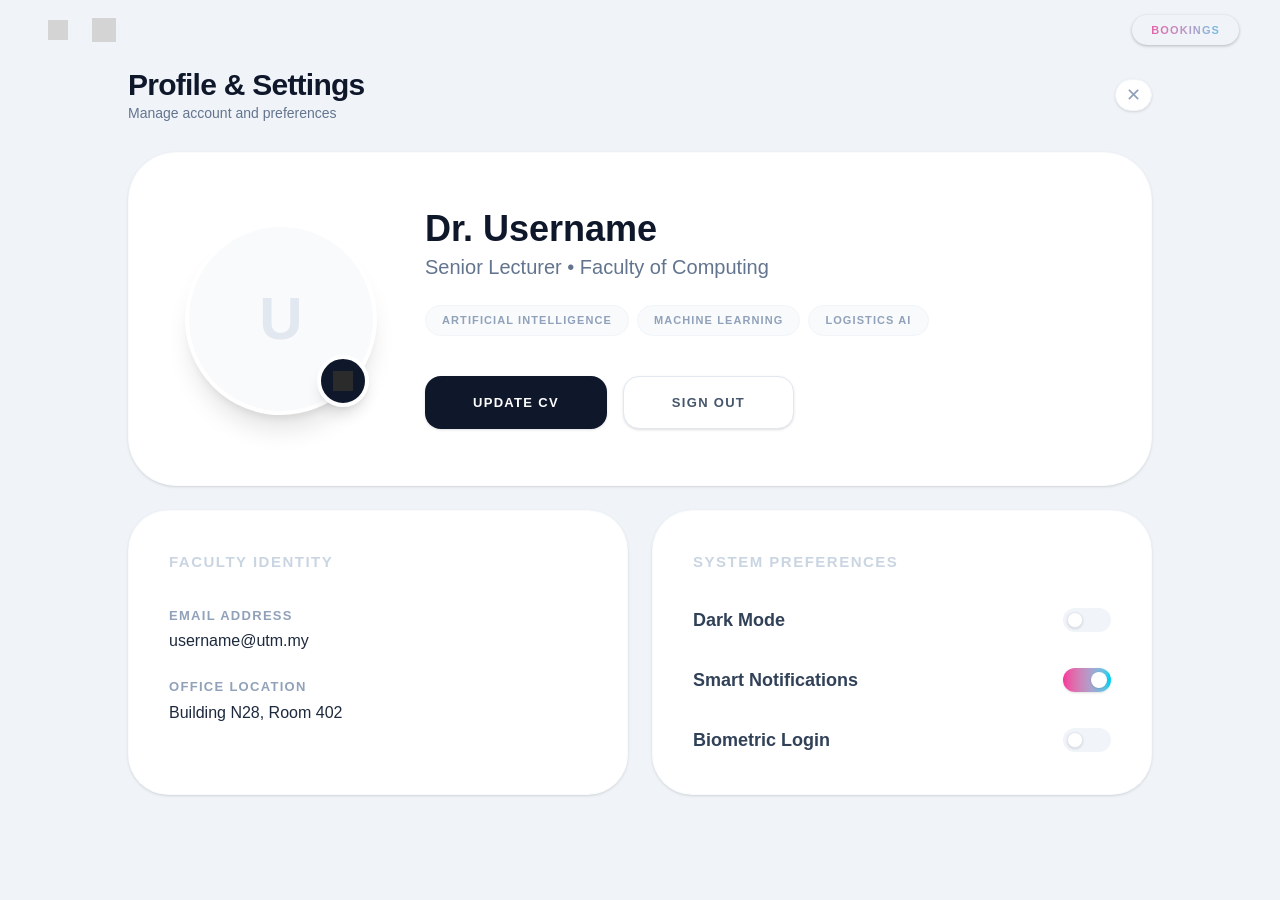
Test case: ProfileSettings › renders chat history from localStorage
The width and height of the screenshot is (1280, 900).
Click the 1st button with alt text "Menu". click: (58, 30)
box: [40, 12, 76, 48]
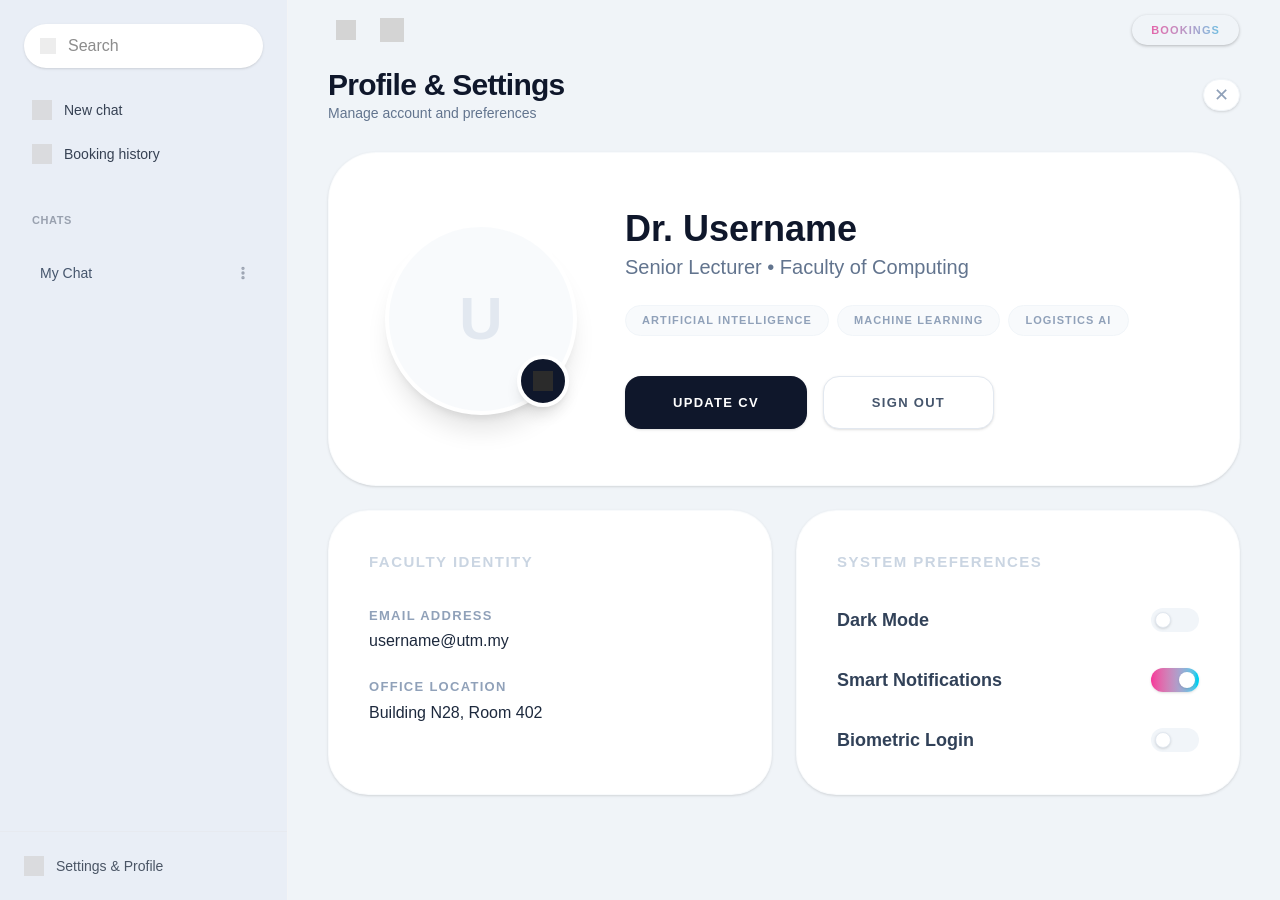
Result: the text "My Chat" is shown at [40, 263, 96, 283]
